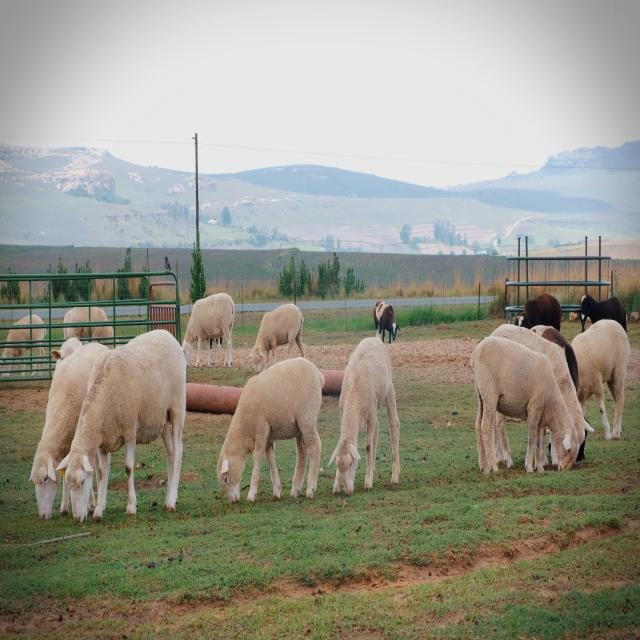sheep: (64, 323, 194, 530), (457, 333, 581, 491), (211, 360, 328, 510), (328, 320, 411, 515), (22, 345, 59, 526), (246, 303, 318, 378)
